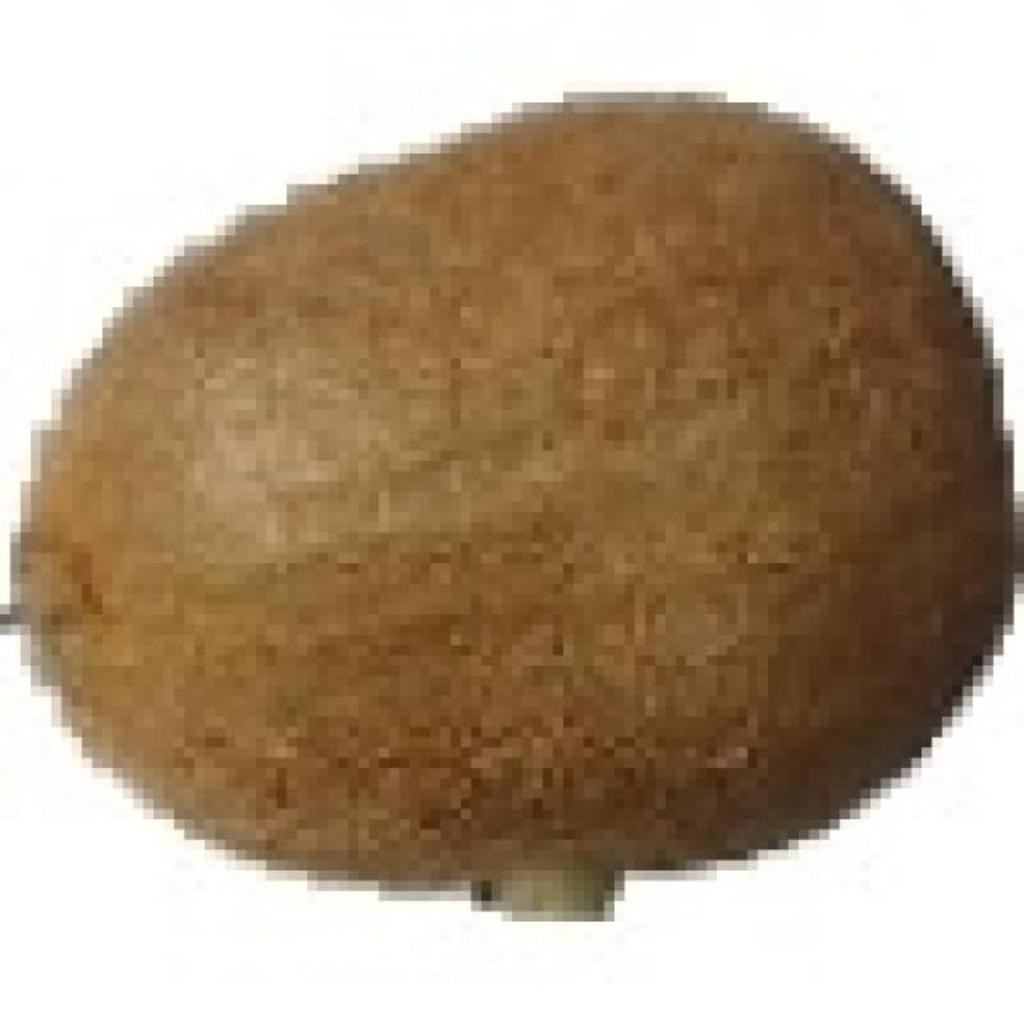kiwi: (10, 82, 993, 891)
